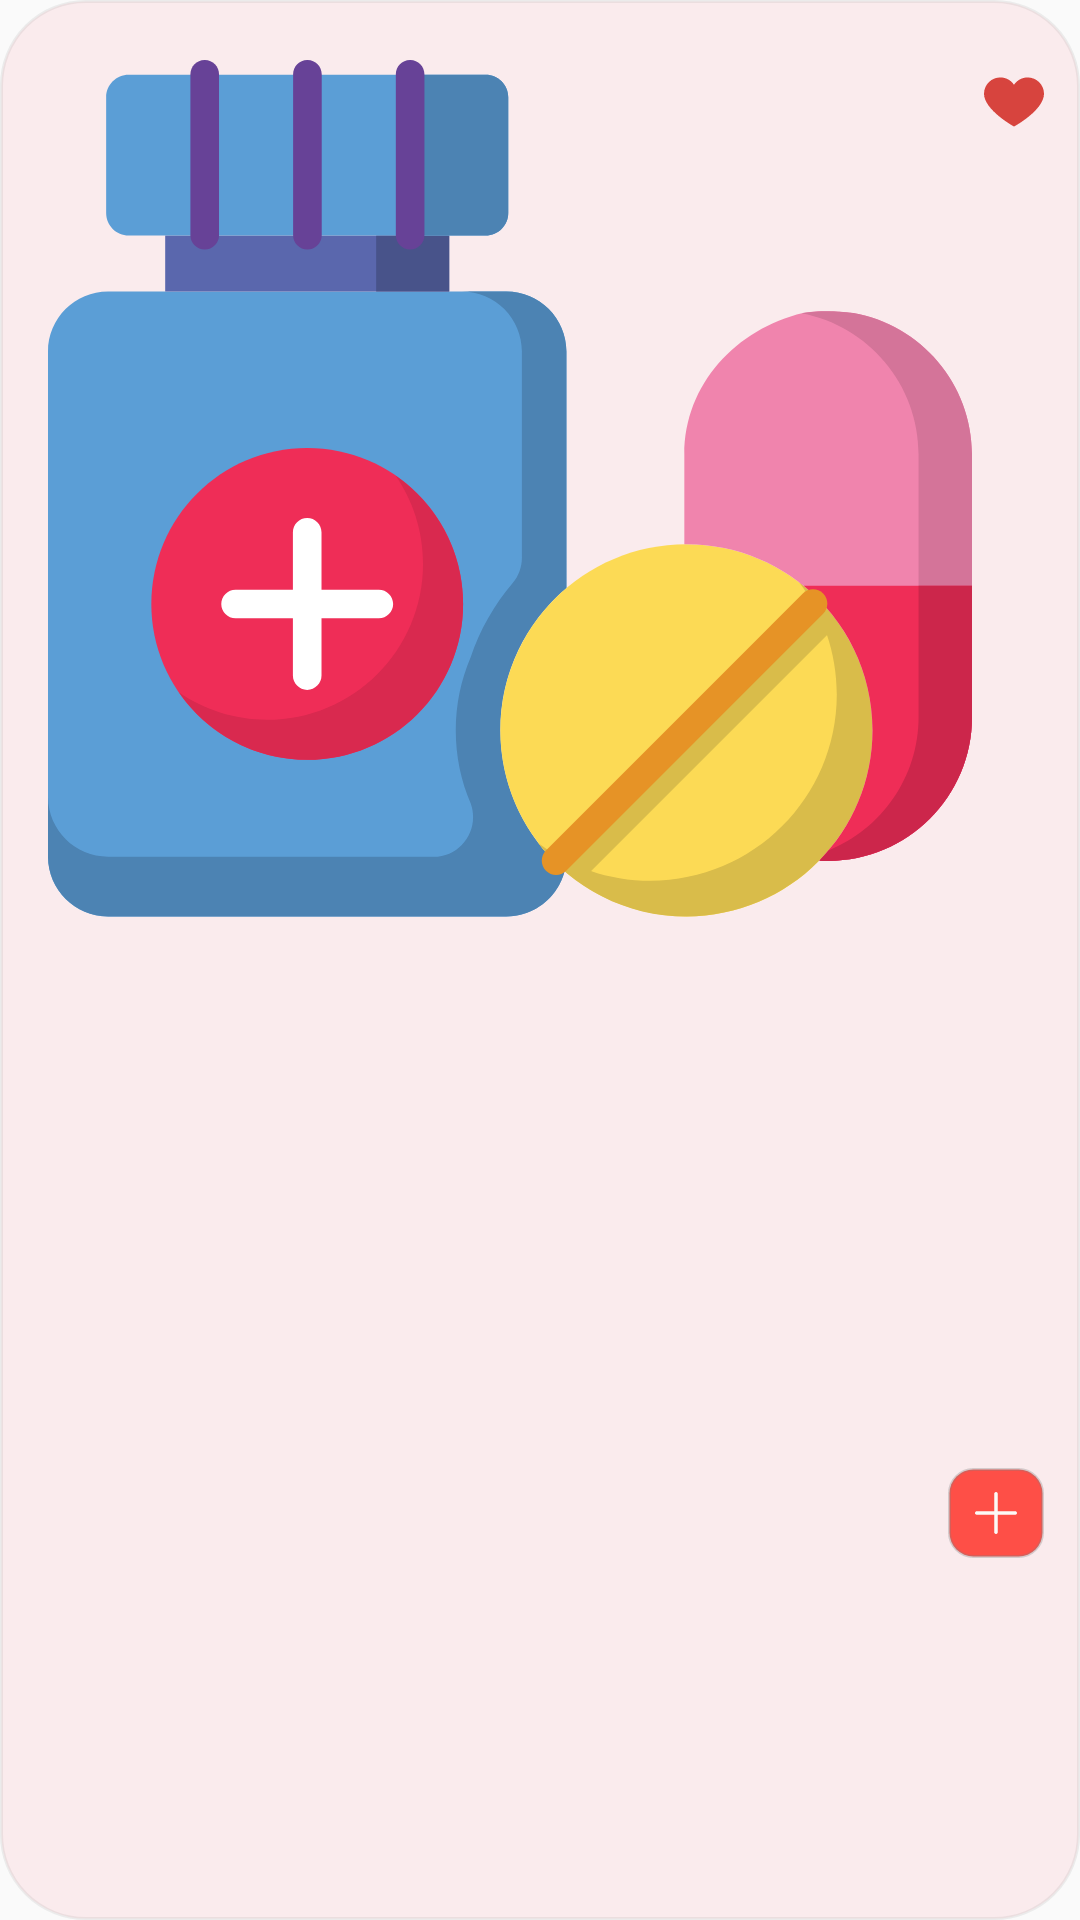

Screen size 1080w x 1920h. Icon name, then its box in pixels as (x1, y1, x2, y2):
add ws: (948, 1468, 1044, 1558)
heart liked: (984, 77, 1044, 127)
